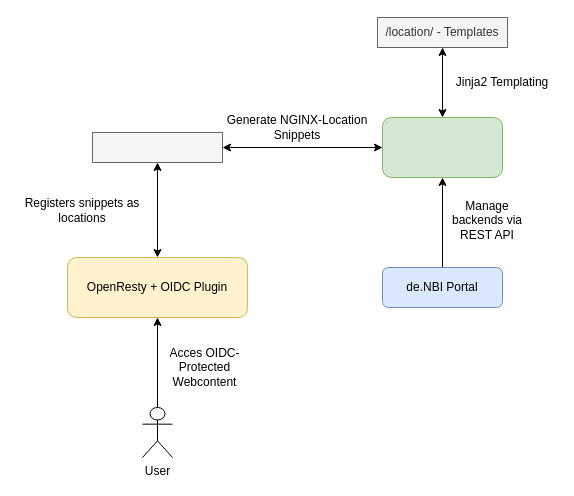
The diagram is 574 pixels wide and 496 high, and some of its shapes have lost their labels. Each missing label, with the centre of its shape:
/location/ - Backends: (157,147)
Flask OpenResty Configurator: (442,147)
